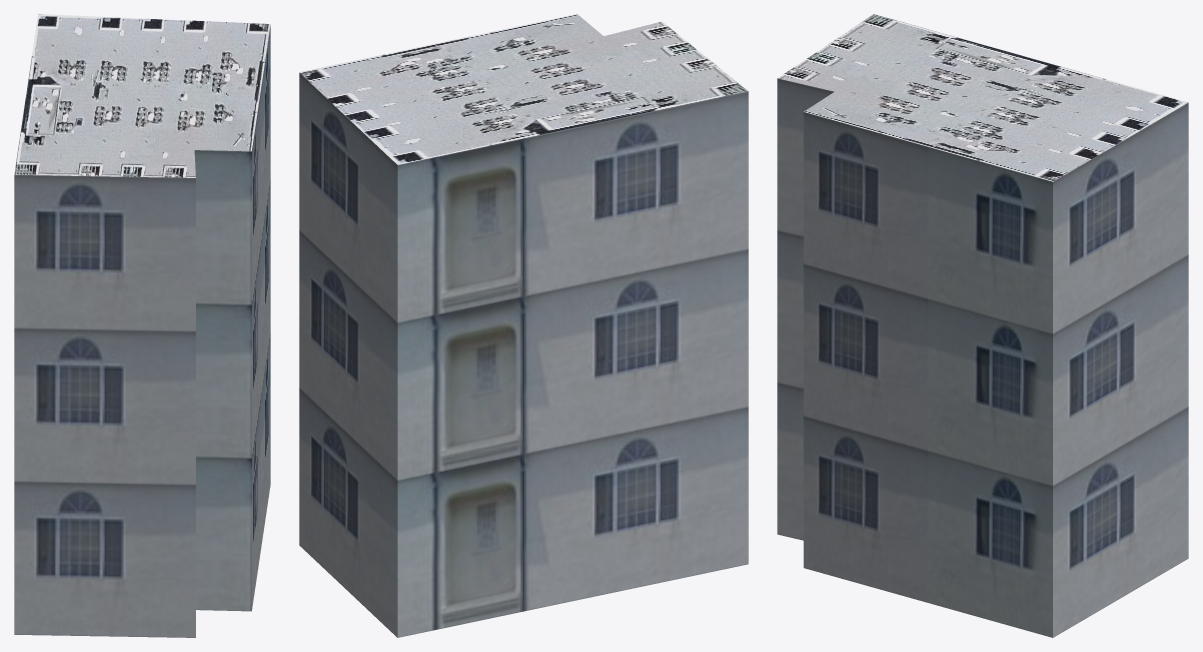
Rendered from ResTex__2054.fbx.
The picture shows the model from 3 angles, left to right: view 1: azimuth 30°, elevation 25°; view 2: azimuth 150°, elevation 25°; view 3: azimuth 270°, elevation 25°; orthographic projection. The views are drawn at different scales.
Visible parts, largest first — view 1: CityEngineMaterial_17_m, CityEngineMaterial_8_m; view 2: CityEngineMaterial_17_m, CityEngineMaterial_8_m; view 3: CityEngineMaterial_17_m, CityEngineMaterial_8_m.
Part boxes in pixels (box(x1,y1,x2,y2)): CityEngineMaterial_17_m: box(14, 26, 270, 637); CityEngineMaterial_8_m: box(14, 14, 270, 177); CityEngineMaterial_17_m: box(299, 73, 748, 637); CityEngineMaterial_8_m: box(299, 14, 748, 164); CityEngineMaterial_17_m: box(777, 78, 1188, 637); CityEngineMaterial_8_m: box(778, 14, 1188, 181).
Bounding box in the file's own units: 7.1 × 9 × 7.36.
2 materials, 2 textured.
